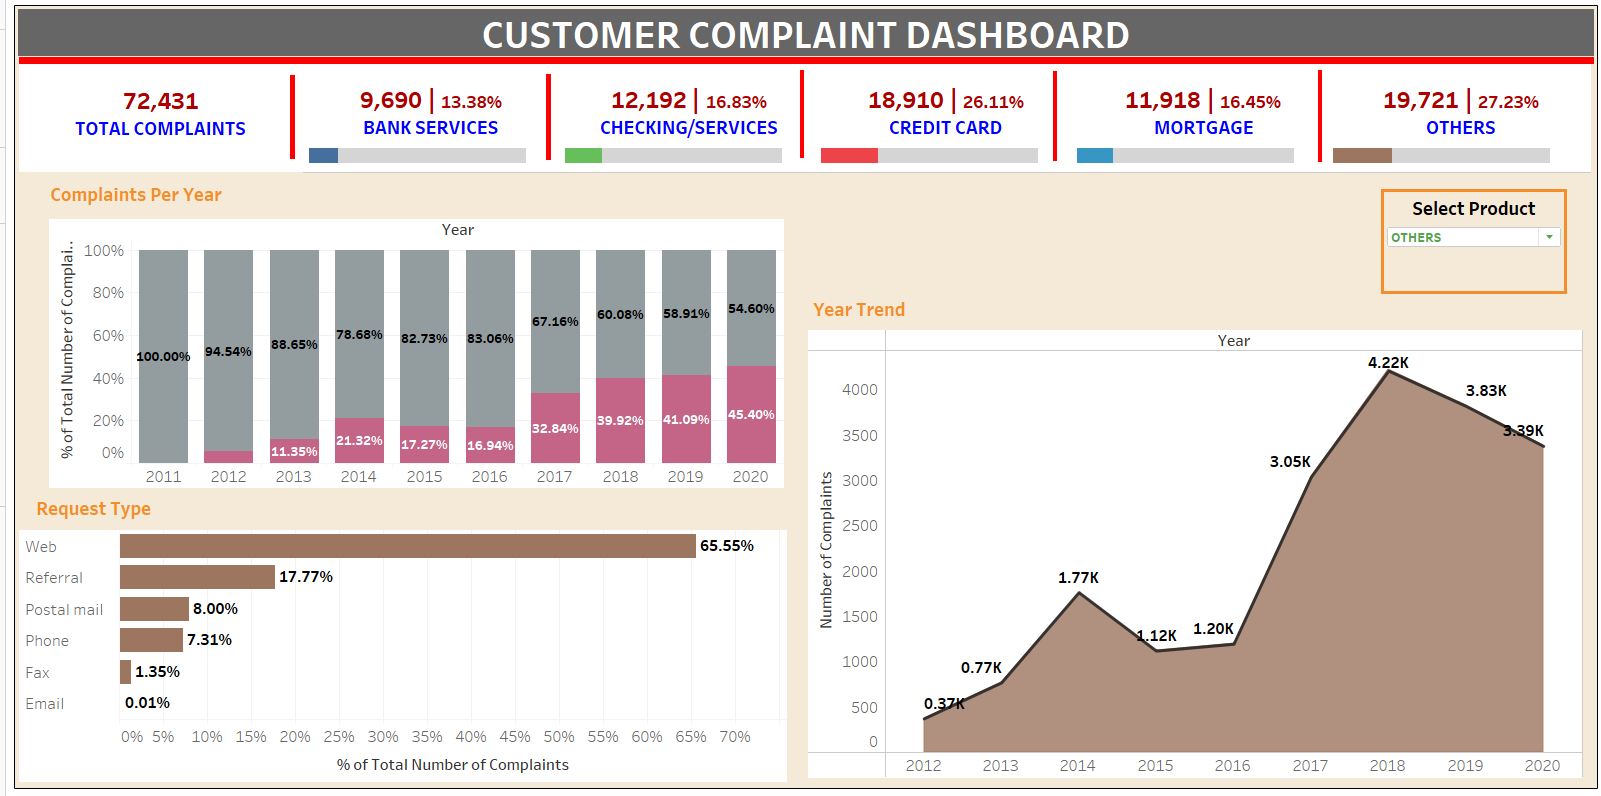

What the dashboard file says about the page in this screenshot:
{"tool":"tableau","page":{"name":"CUSTOMER COMPLAINT DASHBOARD","canvas":[1600,800],"ordinal":0},"visuals":[{"type":"title","box":[12,12,1576,47]},{"type":"blank","box":[13,60,1575,7]},{"type":"blank","box":[14,61,1573,122]},{"type":"worksheet","title":"KPI","mark":"Automatic","box":[297,64,1288,112]},{"type":"worksheet","title":"Total KPI","mark":"Automatic","box":[13,67,284,108]},{"type":"blank","box":[794,73,4,88]},{"type":"blank","box":[1312,73,4,92]},{"type":"blank","box":[1047,74,4,90]},{"type":"blank","box":[540,77,5,86]},{"type":"blank","box":[284,78,5,84]},{"type":"worksheet","title":"% of Complaints","mark":"Bar","cols":["Calculation_242912912257257474","Number of Complaints"],"box":[303,148,1284,28]},{"type":"text","box":[41,182,179,30]},{"type":"parameter","param":"[Parameters].[Parameter 1]","box":[1375,192,186,105]},{"type":"worksheet","title":"Complaints Per Year","mark":"Bar","cols":["Year"],"box":[43,222,735,269]},{"type":"text","box":[804,297,100,30]},{"type":"worksheet","title":"Year Trend","mark":"Area","rows":["Number of Complaints","Number of Complaints"],"cols":["Year"],"box":[802,333,775,448]},{"type":"text","box":[27,496,122,30]},{"type":"worksheet","title":"Request Type","mark":"Automatic","rows":["Submitted via"],"box":[13,533,768,252]}]}

Visuals, with their boxes in screenshot pixels (x1, y1, x2, y2), scaled from the page's 1600x800 canvas onto the 1601x796 screenshot:
title: left=12, top=12, right=1589, bottom=59
blank: left=13, top=60, right=1589, bottom=67
blank: left=14, top=61, right=1588, bottom=182
"KPI" worksheet: left=297, top=64, right=1586, bottom=175
"Total KPI" worksheet: left=13, top=67, right=297, bottom=174
blank: left=794, top=73, right=798, bottom=160
blank: left=1313, top=73, right=1317, bottom=164
blank: left=1048, top=74, right=1052, bottom=163
blank: left=540, top=77, right=545, bottom=162
blank: left=284, top=78, right=289, bottom=161
"% of Complaints" worksheet (Bar marks): left=303, top=147, right=1588, bottom=175
text: left=41, top=181, right=220, bottom=211
parameter: left=1376, top=191, right=1562, bottom=296
"Complaints Per Year" worksheet (Bar marks): left=43, top=221, right=778, bottom=489
text: left=805, top=296, right=905, bottom=325
"Year Trend" worksheet (Area marks): left=803, top=331, right=1578, bottom=777
text: left=27, top=494, right=149, bottom=523
"Request Type" worksheet: left=13, top=530, right=781, bottom=781
